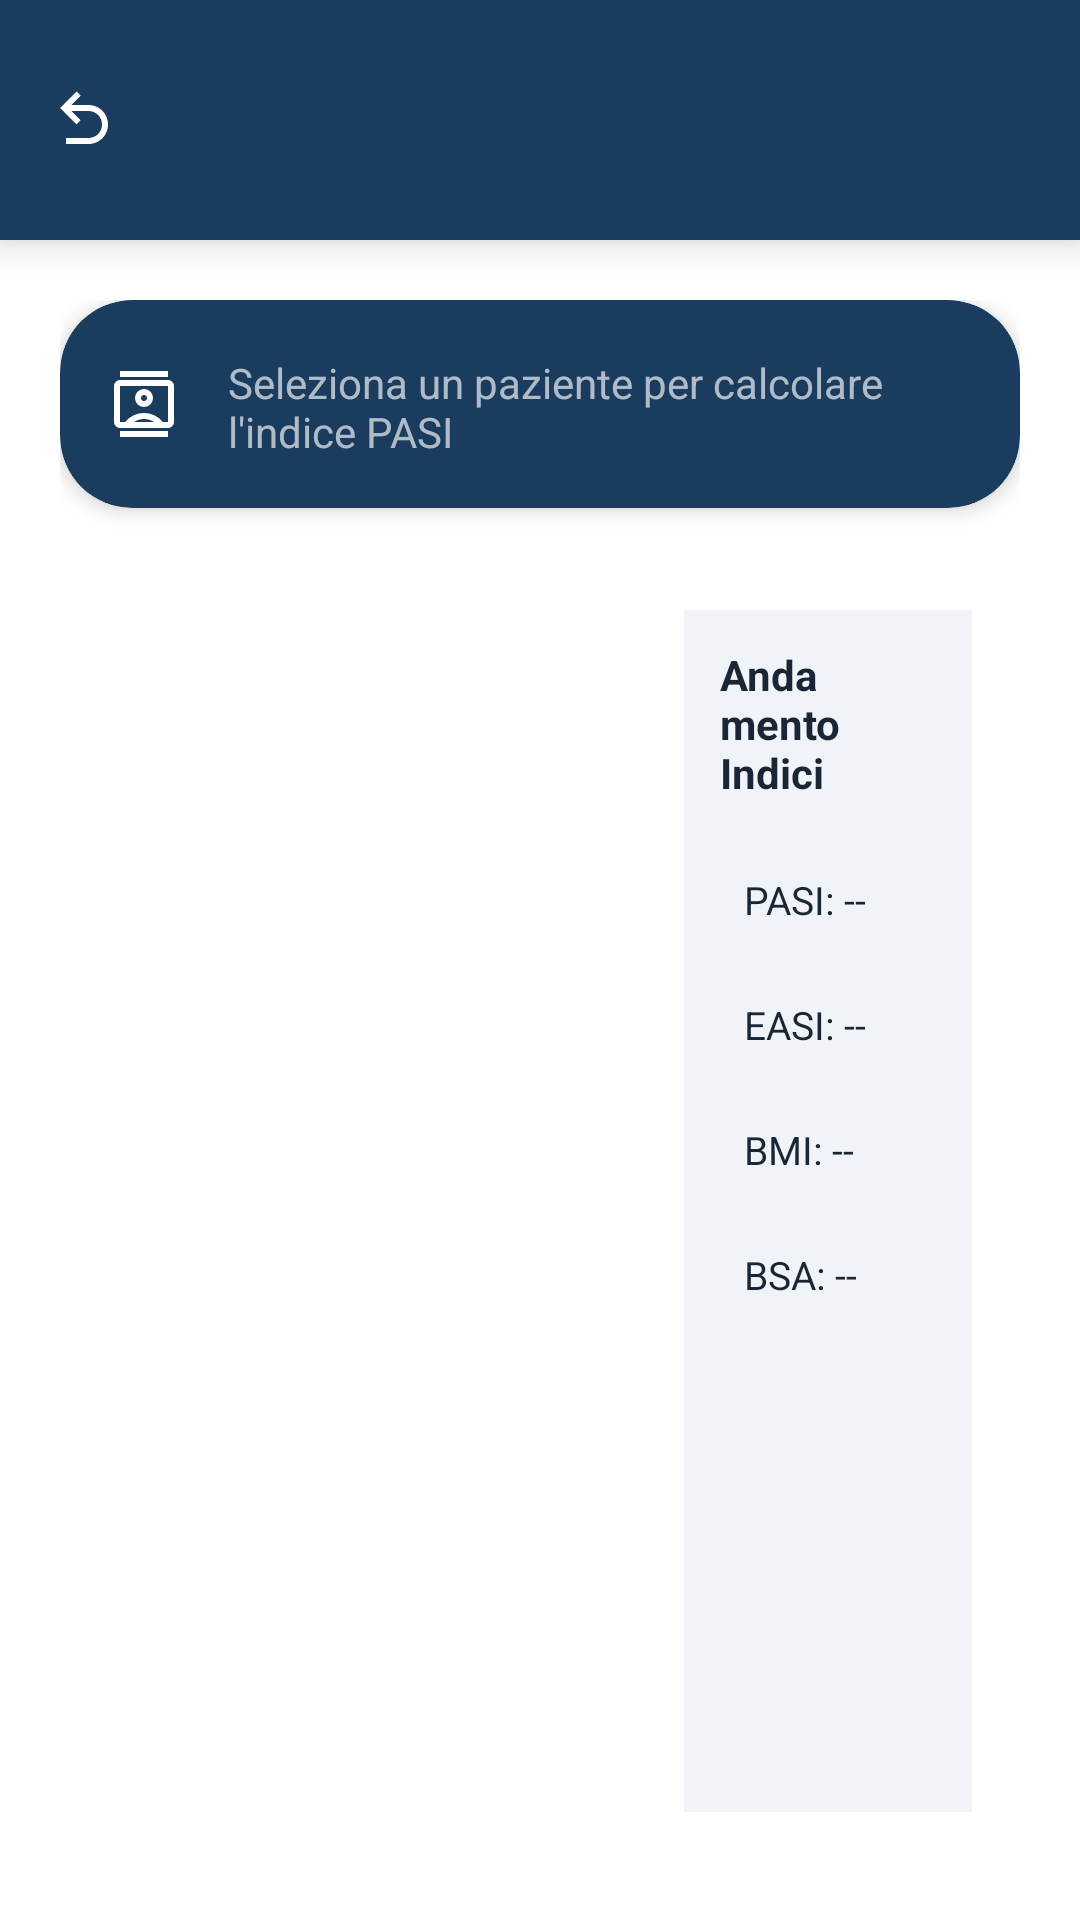

Icons on this 1080x1920 Android screen, each with the point to tap as point (x, y):
patient: point (144, 404)
